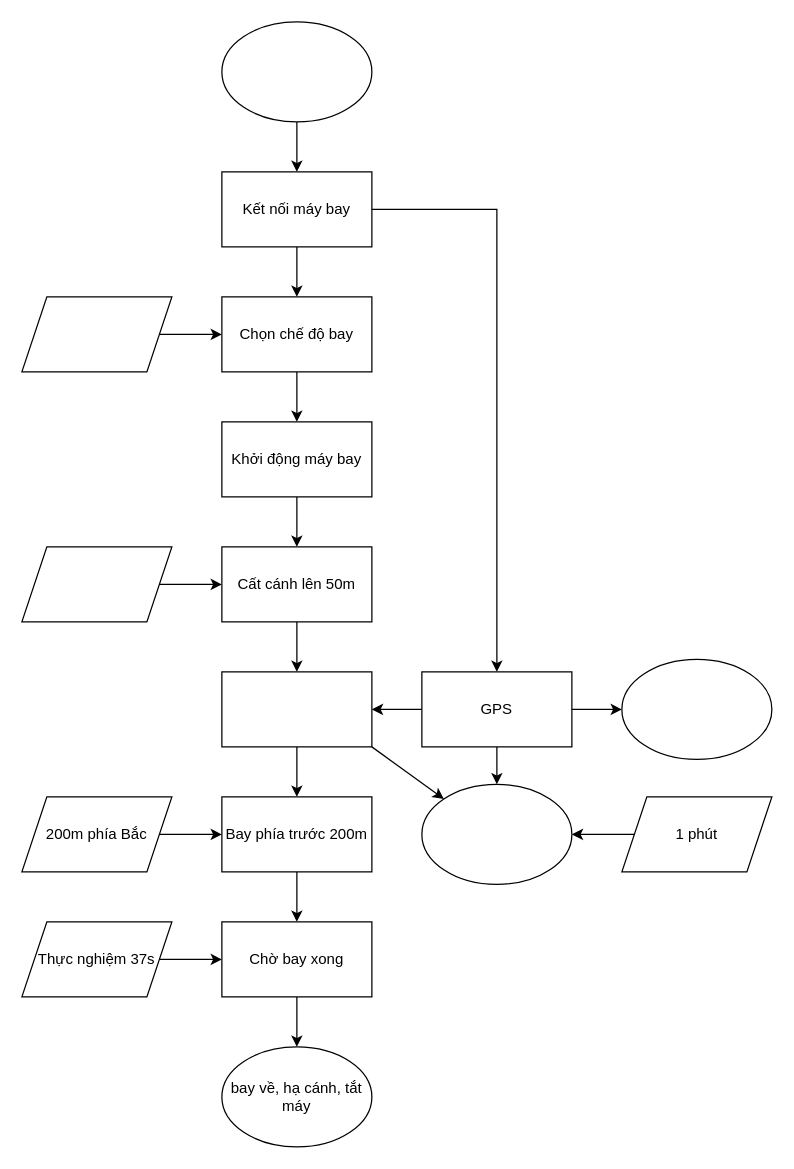
Image size: 794x1169. Some labels were removed from this diagram. Here are the shapes that lost their labels. From the top down, the centre of each, then its label:
At [296,71]: "tcp:localhost:5760".
At [96,334]: "GUIDED".
At [96,584]: "Độ cao 50m".
At [296,709]: "Chờ cất cánh xong".
At [696,708]: "GPS/second".
At [496,833]: "gps-task2.txt".
